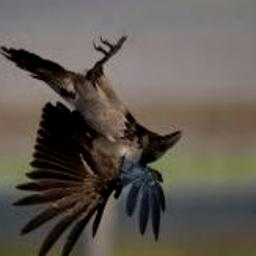Crow: (0, 37, 181, 256)
